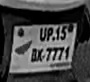1: (64, 46, 71, 62), (54, 27, 60, 41)
5: (60, 25, 66, 41)
7: (58, 46, 64, 63), (46, 46, 52, 61), (52, 46, 57, 63)
B: (31, 47, 37, 63)
P: (47, 26, 52, 42)
U: (38, 26, 47, 42)
X: (37, 47, 44, 62)
